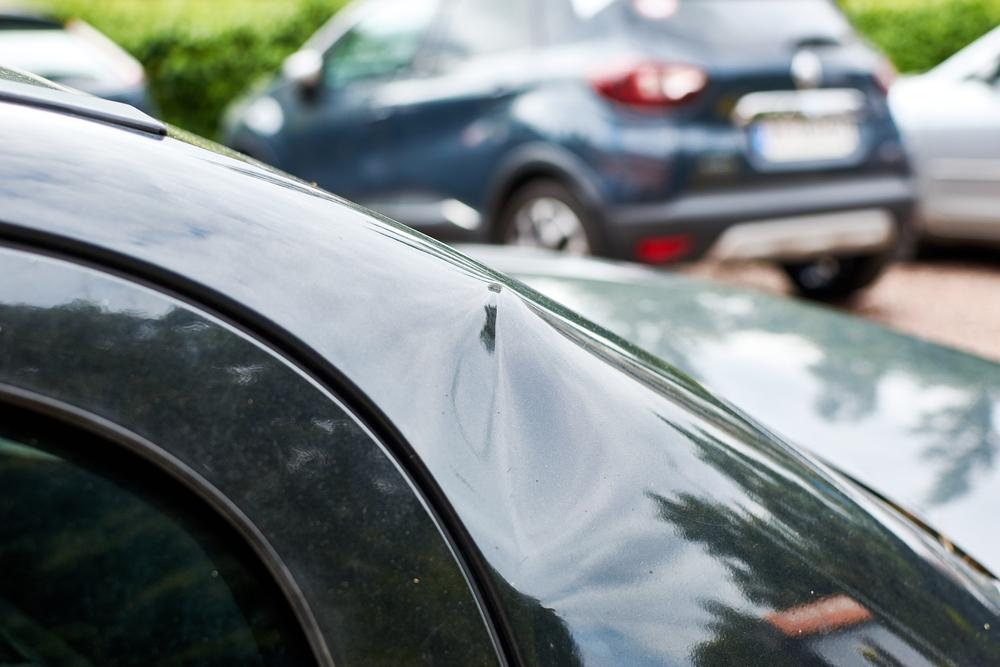dent: (430, 286, 603, 553)
